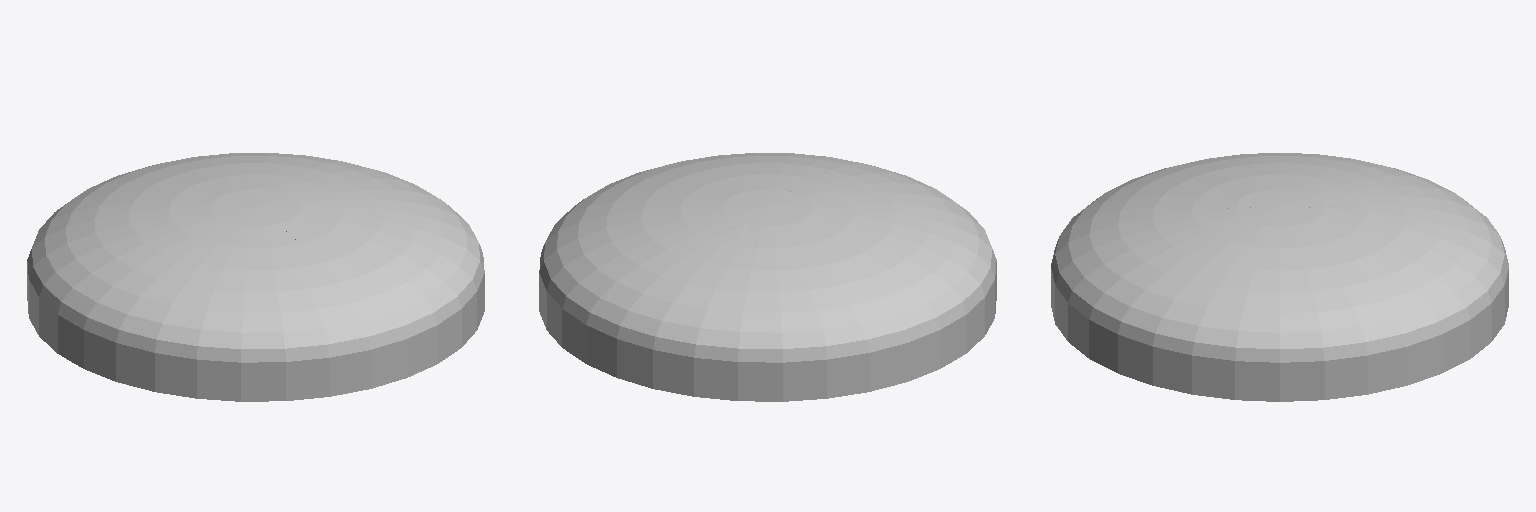
Rendered from LED Diffuser Print.obj.
The picture shows the model from 3 angles: view 1: azimuth 30°, elevation 25°; view 2: azimuth 150°, elevation 25°; view 3: azimuth 270°, elevation 25°; orthographic projection.
Visible parts, largest first — view 1: Diffuser_Sphere; view 2: Diffuser_Sphere; view 3: Diffuser_Sphere.
Boxes of the visible parts, box(x1,y1,x2,y2) form: Diffuser_Sphere: box(27, 153, 484, 401); Diffuser_Sphere: box(539, 153, 996, 401); Diffuser_Sphere: box(1051, 153, 1508, 401).
Size of the model in its own units: 0.035 by 0.0083 by 0.035.